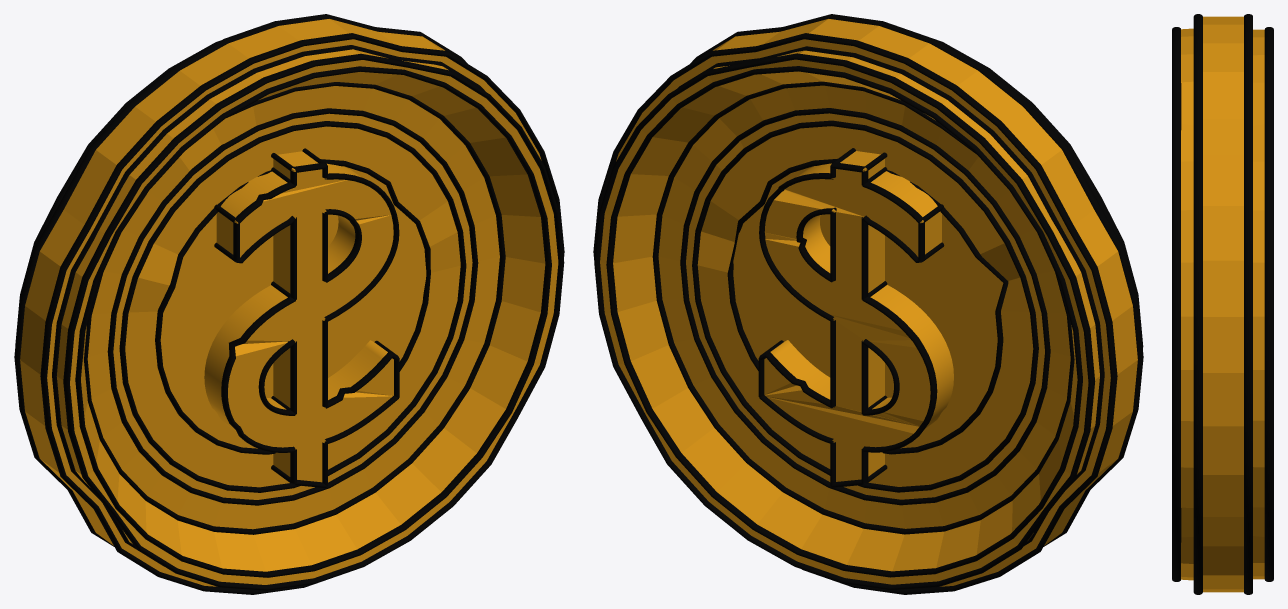
The model's file is coin.glb.
The picture shows the model from 3 angles, left to right: view 1: azimuth 30°, elevation 25°; view 2: azimuth 150°, elevation 25°; view 3: azimuth 270°, elevation 25°; orthographic projection. The views are drawn at different scales.
Visible parts, largest first — view 1: Text; view 2: Text; view 3: Text.
Part boxes in pixels (x1=…): Text: x1=14, y1=14, x2=564, y2=594; Text: x1=593, y1=14, x2=1143, y2=594; Text: x1=1172, y1=14, x2=1273, y2=594.
Size of the model in its own units: 2.22 by 2.22 by 0.388.
Materials: 2 (1 with a texture image).
